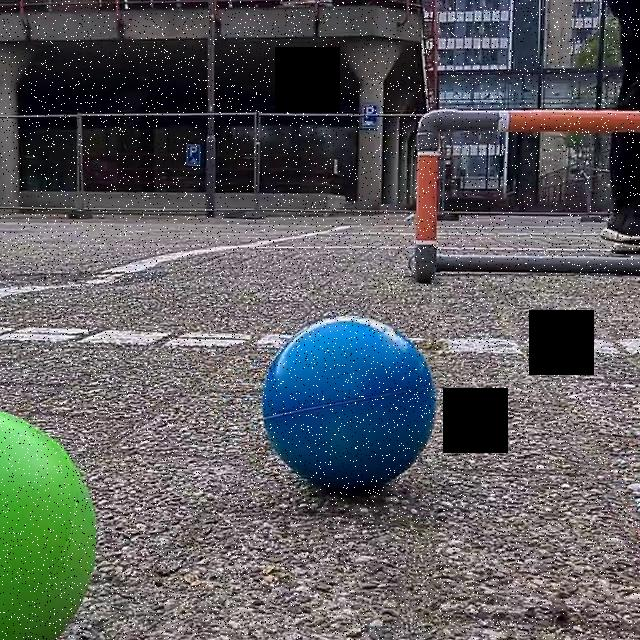ball: (262, 310, 436, 496), (2, 409, 100, 640)
